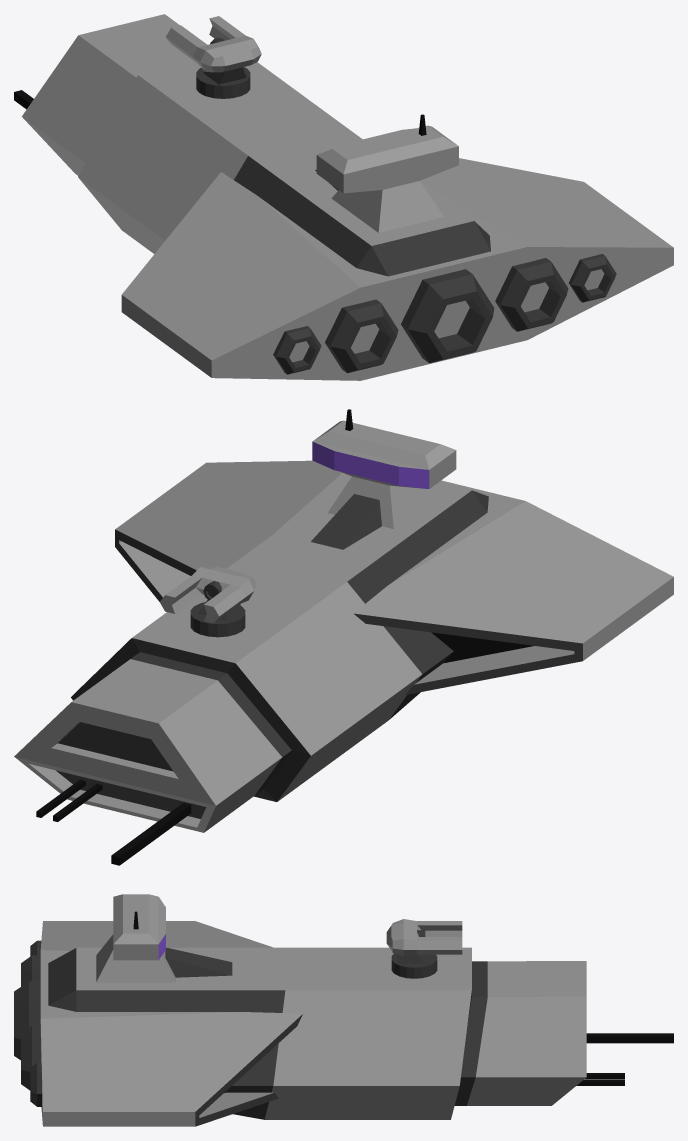
File: sg_ship_enemy_1_model.FBX
The picture shows the model from 3 angles, top to bottom: view 1: azimuth 30°, elevation 25°; view 2: azimuth 150°, elevation 25°; view 3: azimuth 270°, elevation 25°; orthographic projection. The views are drawn at different scales.
Visible parts, largest first — view 1: Box002, Box001, Box003, Tube001, Tube003, Tube002, Turret Gun, Tube004, Tube005, Turret Base; view 2: Box001, Box002, Box003, Turret Gun, Box004, Turret Base; view 3: Box001, Box002, Box003, Turret Gun, Tube001, Tube002, Box004, Turret Base, Tube003, Tube005.
Boxes of the visible parts, box(x1,y1,x2,y2) form: Box002: box(121, 158, 673, 380); Box001: box(22, 14, 490, 276); Box003: box(315, 114, 458, 232); Tube001: box(401, 269, 494, 363); Tube003: box(325, 299, 398, 373); Tube002: box(495, 258, 568, 331); Turret Gun: box(166, 16, 261, 72); Tube004: box(273, 326, 321, 374); Tube005: box(569, 254, 616, 302); Turret Base: box(196, 67, 250, 98); Box001: box(14, 477, 488, 832); Box002: box(115, 460, 673, 694); Box003: box(311, 409, 456, 549); Turret Gun: box(160, 566, 256, 623); Box004: box(111, 803, 191, 865); Turret Base: box(190, 602, 245, 637); Box001: box(48, 947, 586, 1119); Box002: box(40, 921, 302, 1126); Box003: box(96, 894, 232, 982); Turret Gun: box(386, 919, 462, 956); Tube001: box(14, 981, 40, 1060); Tube002: box(21, 1025, 40, 1090); Box004: box(586, 1033, 673, 1043); Turret Base: box(391, 953, 437, 978); Tube003: box(21, 955, 40, 986); Tube005: box(30, 1062, 41, 1106).
Bounding box in the file's own units: 115 × 52.93 × 167.
